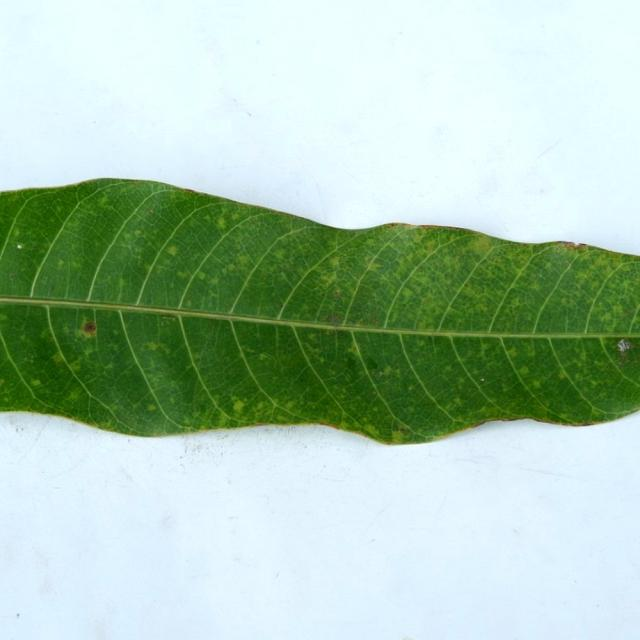Mango: (0, 179, 639, 444)
Powdery_Mildew: (453, 416, 526, 432), (387, 224, 488, 234), (470, 233, 493, 252), (344, 355, 362, 378), (613, 336, 629, 356), (220, 262, 241, 277), (358, 314, 381, 326), (324, 313, 343, 327), (558, 241, 587, 250), (82, 321, 98, 336), (323, 273, 339, 287), (391, 427, 408, 440), (14, 242, 37, 251), (417, 224, 451, 230), (346, 342, 360, 355), (230, 396, 244, 407), (380, 366, 393, 377), (51, 353, 64, 364), (328, 257, 341, 268), (147, 342, 159, 352), (160, 315, 177, 322), (384, 223, 403, 229), (83, 347, 94, 357), (519, 366, 529, 376), (71, 362, 81, 372), (40, 330, 50, 340), (217, 217, 226, 228), (197, 271, 207, 280), (531, 380, 541, 389), (257, 353, 268, 361), (580, 421, 597, 426), (210, 276, 219, 285), (31, 379, 41, 387), (177, 270, 187, 278), (105, 363, 115, 371), (168, 246, 177, 254), (61, 326, 70, 334), (56, 259, 64, 268), (617, 359, 627, 366), (183, 188, 197, 193), (333, 290, 340, 299), (398, 427, 407, 434), (326, 330, 335, 337), (148, 404, 157, 411), (278, 264, 285, 273), (146, 209, 154, 216), (563, 259, 571, 266), (134, 230, 142, 237), (208, 322, 216, 329), (345, 320, 355, 325), (8, 274, 15, 280), (41, 276, 47, 282), (373, 390, 378, 395), (17, 244, 22, 248), (379, 370, 383, 375), (480, 378, 484, 381)
